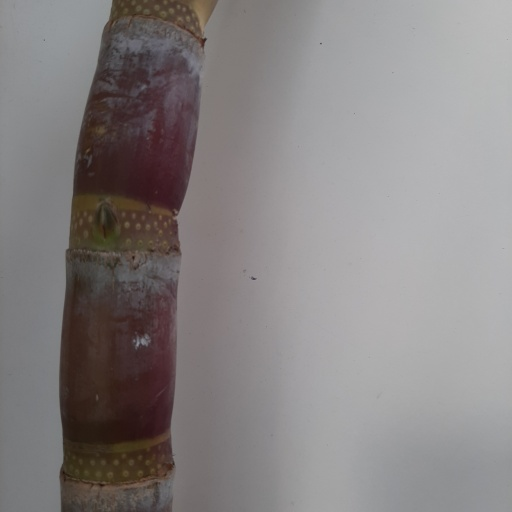Bud: (93, 202, 121, 242)
